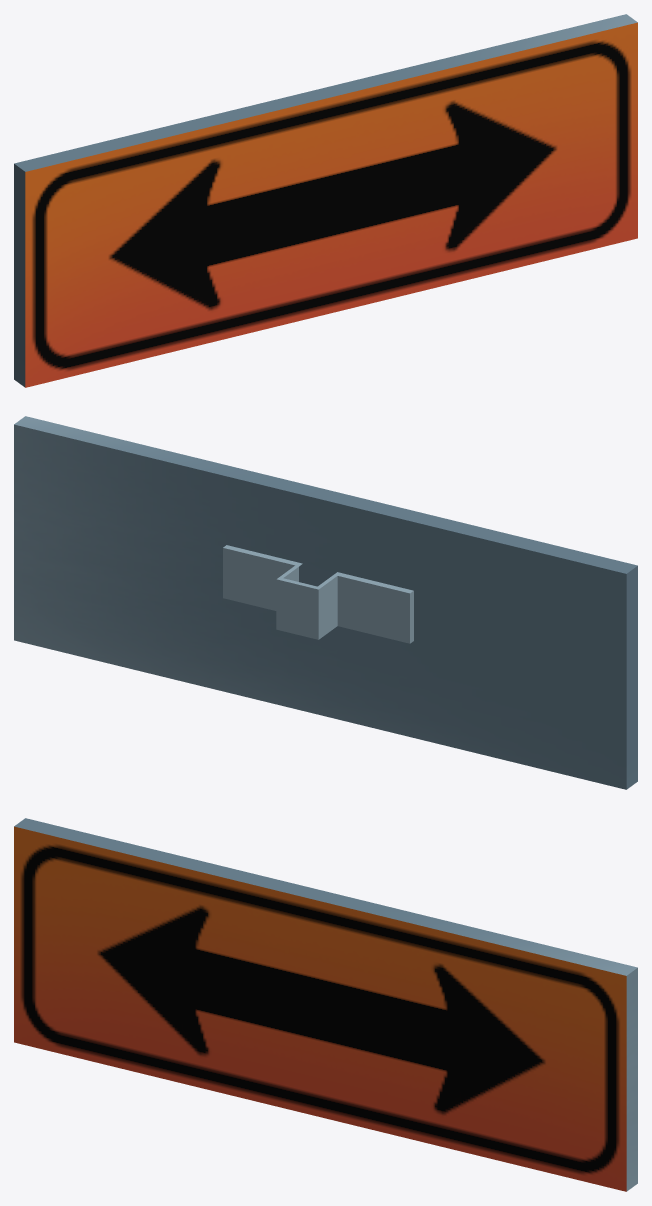
File: Sign58.fbx
3 views of the same model, one above another, from view 1: azimuth 30°, elevation 25°; view 2: azimuth 150°, elevation 25°; view 3: azimuth 330°, elevation 25° (orthographic).
Parts seen in each view (by area): view 1: Sign58; view 2: Sign58; view 3: Sign58.
Boxes of the visible parts, x1,y1,x2,y2 form: Sign58: [14, 14, 637, 387]; Sign58: [14, 416, 637, 789]; Sign58: [14, 818, 637, 1191].
Size of the model in its own units: 1.54 by 0.1489 by 0.5195.
